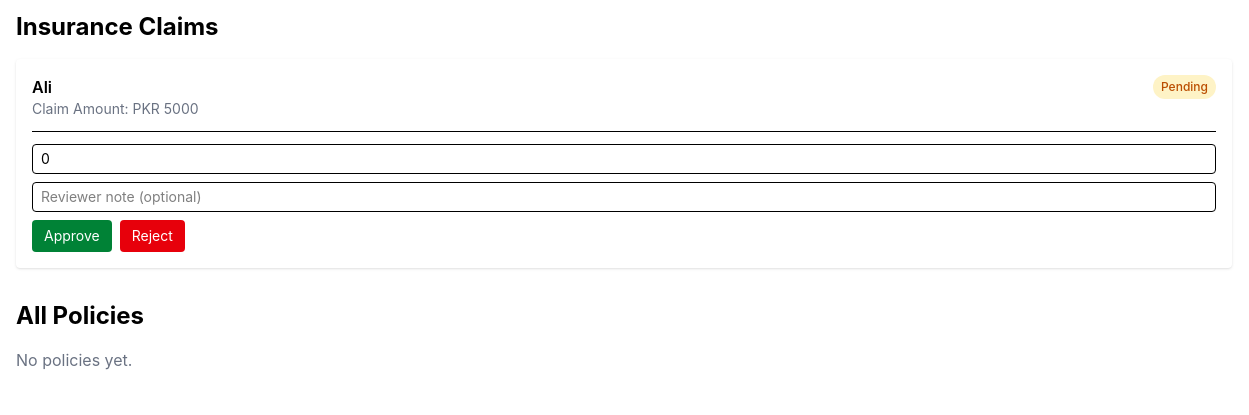
Test: insurance/DashboardView.vue › FIXED BUG: a failed review shows an inline error instead of an unhandled rejection with no feedback
Click the button "Reject" at point(152, 236), box [120, 220, 185, 252]
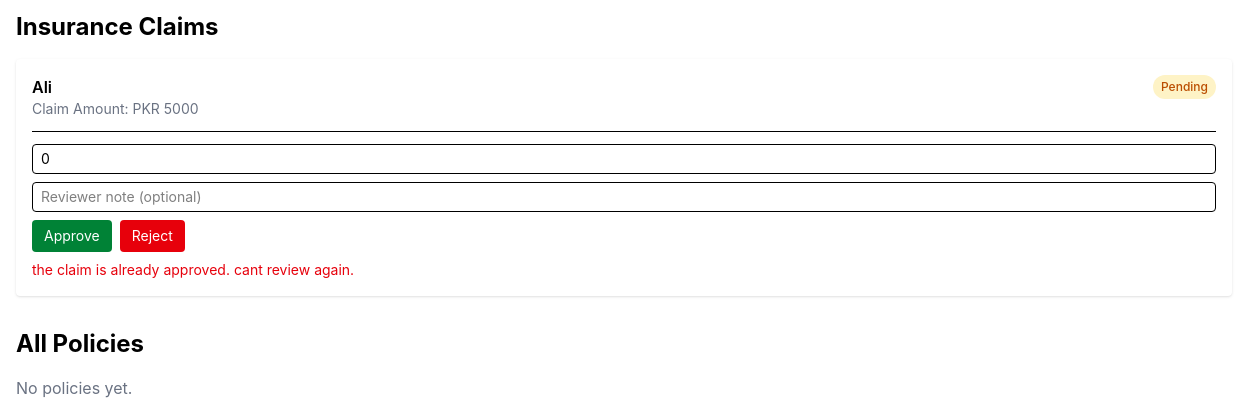
Result: the text "the claim is already approved. cant review again." is shown at [32, 261, 354, 278]
